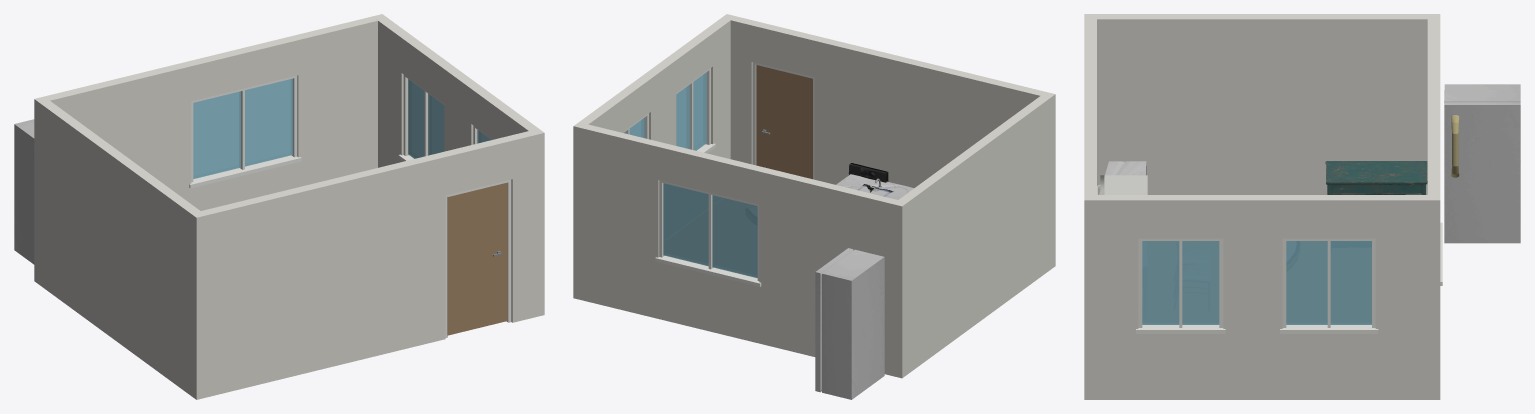
File: layoutgpt.glb
3 views of the same model, side by side, from view 1: azimuth 30°, elevation 25°; view 2: azimuth 150°, elevation 25°; view 3: azimuth 270°, elevation 25° (orthographic). The views are drawn at different scales.
Parts seen in each view (by area): view 1: wall|scenesmith_107__R00|0, wall|scenesmith_107__R00|1, wall|scenesmith_107__R00|2, wall|scenesmith_107__R00|3, wall|scenesmith_107__R00|0 Door 0 | wood leaf, wall|scenesmith_107__R00|1 Window 0 | glazing, scenesmith_107__R00_9, wall|scenesmith_107__R00|1 Window 0 | jamb, wall|scenesmith_107__R00|3 Window 0 | glazing, wall|scenesmith_107__R00|0 Door 0 | jamb, wall|scenesmith_107__R00|3 Window 0 | jamb; view 2: wall|scenesmith_107__R00|1, wall|scenesmith_107__R00|2, wall|scenesmith_107__R00|0, wall|scenesmith_107__R00|3, scenesmith_107__R00_9, wall|scenesmith_107__R00|1 Window 0 | glazing, wall|scenesmith_107__R00|0 Door 0 | wood leaf, wall|scenesmith_107__R00|1 Window 0 | jamb, wall|scenesmith_107__R00|3 Window 0 | glazing, wall|scenesmith_107__R00|3 Window 0 | jamb, scenesmith_107__R00_3, wall|scenesmith_107__R00|0 Door 0 | jamb (+1 smaller); view 3: wall|scenesmith_107__R00|2, wall|scenesmith_107__R00|3, wall|scenesmith_107__R00|3 Window 0 | glazing, scenesmith_107__R00_9, wall|scenesmith_107__R00|1, wall|scenesmith_107__R00|0, wall|scenesmith_107__R00|3 Window 0 | jamb, scenesmith_107__R00_4, furniture_group, scenesmith_107__R00_3.
Part boxes in pixels (x1,y1,x2,y2): wall|scenesmith_107__R00|0: [191, 131, 544, 399]; wall|scenesmith_107__R00|1: [34, 16, 377, 284]; wall|scenesmith_107__R00|2: [36, 96, 200, 399]; wall|scenesmith_107__R00|3: [372, 14, 544, 167]; wall|scenesmith_107__R00|0 Door 0 | wood leaf: [447, 182, 507, 335]; wall|scenesmith_107__R00|1 Window 0 | glazing: [193, 78, 292, 178]; scenesmith_107__R00_9: [14, 119, 34, 264]; wall|scenesmith_107__R00|1 Window 0 | jamb: [189, 75, 301, 188]; wall|scenesmith_107__R00|3 Window 0 | glazing: [408, 79, 491, 158]; wall|scenesmith_107__R00|0 Door 0 | jamb: [445, 179, 511, 337]; wall|scenesmith_107__R00|3 Window 0 | jamb: [398, 75, 492, 161]; wall|scenesmith_107__R00|1: [583, 124, 907, 377]; wall|scenesmith_107__R00|2: [892, 94, 1055, 378]; wall|scenesmith_107__R00|0: [730, 16, 1055, 187]; wall|scenesmith_107__R00|3: [573, 14, 735, 300]; scenesmith_107__R00_9: [815, 248, 884, 399]; wall|scenesmith_107__R00|1 Window 0 | glazing: [663, 183, 757, 278]; wall|scenesmith_107__R00|0 Door 0 | wood leaf: [756, 65, 812, 179]; wall|scenesmith_107__R00|1 Window 0 | jamb: [655, 180, 761, 286]; wall|scenesmith_107__R00|3 Window 0 | glazing: [624, 72, 706, 150]; wall|scenesmith_107__R00|3 Window 0 | jamb: [622, 68, 715, 153]; scenesmith_107__R00_3: [836, 174, 913, 199]; wall|scenesmith_107__R00|0 Door 0 | jamb: [752, 62, 814, 179]; wall|scenesmith_107__R00|2: [1097, 14, 1439, 194]; wall|scenesmith_107__R00|3: [1084, 195, 1440, 399]; wall|scenesmith_107__R00|3 Window 0 | glazing: [1142, 241, 1371, 324]; scenesmith_107__R00_9: [1444, 84, 1520, 243]; wall|scenesmith_107__R00|1: [1427, 14, 1440, 399]; wall|scenesmith_107__R00|0: [1084, 14, 1096, 399]; wall|scenesmith_107__R00|3 Window 0 | jamb: [1136, 238, 1378, 333]; scenesmith_107__R00_4: [1325, 161, 1427, 194]; furniture_group: [1097, 175, 1147, 194]; scenesmith_107__R00_3: [1099, 161, 1146, 194].
Bounding box in the file's own units: 5.23 × 2.61 × 5.15.
Materials: 16 (9 with a texture image).
